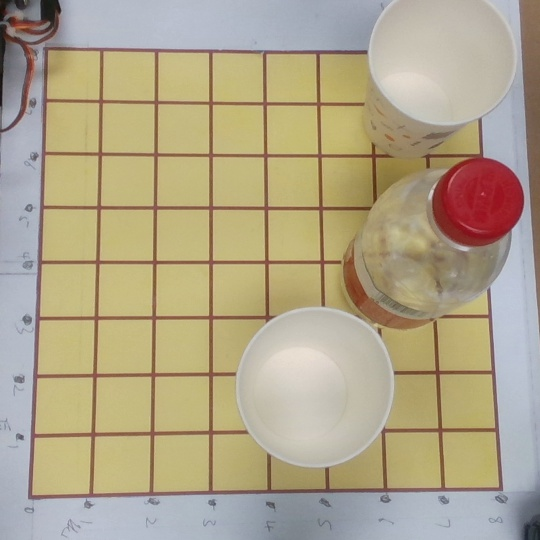bottle: (306, 157, 525, 334)
cup: (351, 2, 517, 169), (233, 308, 397, 472)
